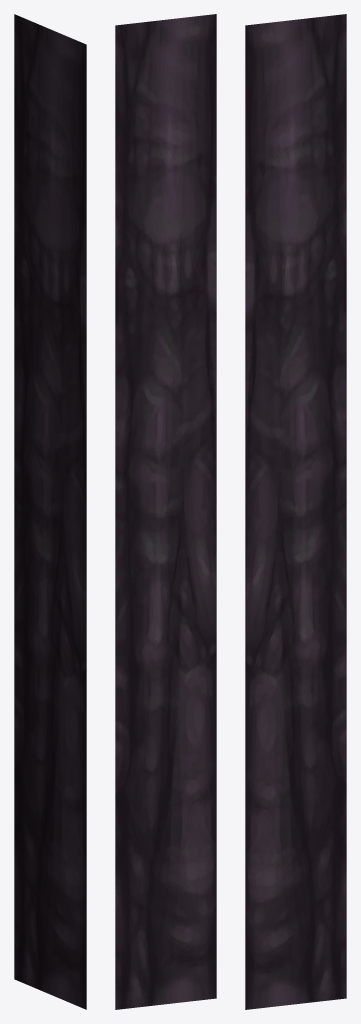
The model's file is cave_wall_convex_01.fbx.
3 renders of one model, left to right at view 1: azimuth 90°, elevation 25°; view 2: azimuth 150°, elevation 25°; view 3: azimuth 330°, elevation 25°, orthographic.
Visible parts, largest first — view 1: cave_tileset/wall01_mat; view 2: cave_tileset/wall01_mat; view 3: cave_tileset/wall01_mat.
Boxes of the visible parts, x1,y1,x2,y2 form: cave_tileset/wall01_mat: (14,14,86,1009); cave_tileset/wall01_mat: (115,14,216,1009); cave_tileset/wall01_mat: (245,14,346,1009).
Bounding box in the file's own units: 0.375 × 5.5 × 0.375.
